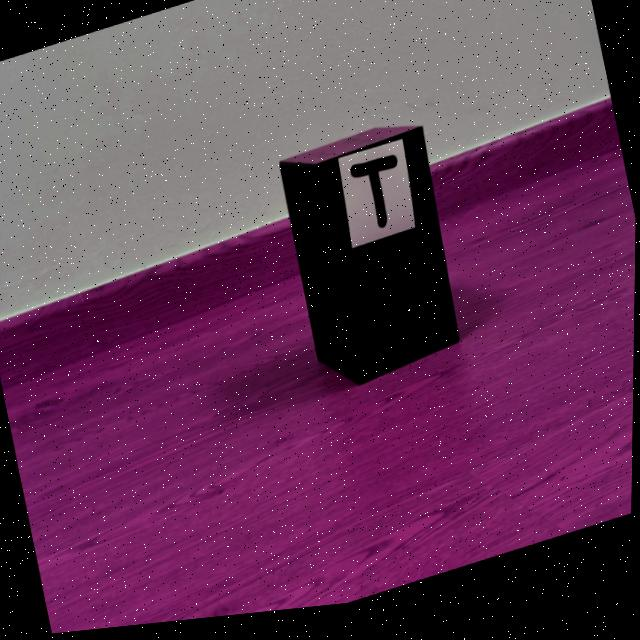T: (351, 163, 398, 236)
